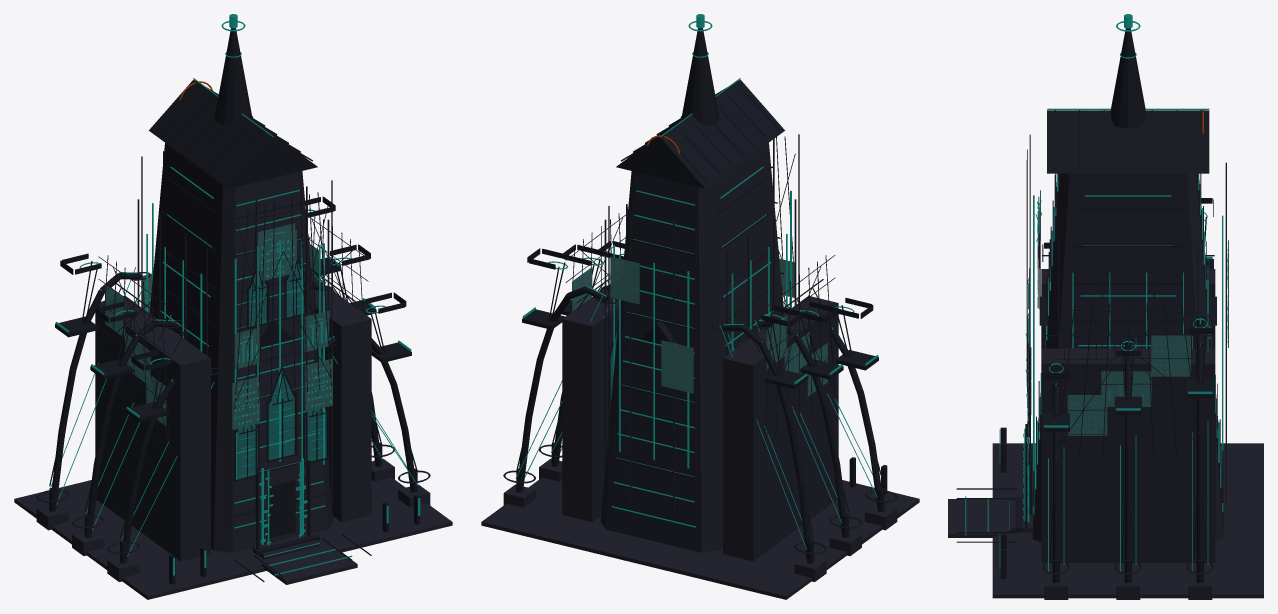
Rendered from analytics-ext-draft-s42.glb.
The picture shows the model from 3 angles, left to right: view 1: azimuth 30°, elevation 25°; view 2: azimuth 150°, elevation 25°; view 3: azimuth 270°, elevation 25°; orthographic projection.
Visible parts, largest first — view 1: analytics_ext_base_packed, analytics_ext_detail_packed, analytics_ext_emissive_packed, analytics_ext_glass_packed, analytics_ext_holo_packed; view 2: analytics_ext_base_packed, analytics_ext_detail_packed, analytics_ext_emissive_packed, analytics_ext_glass_packed; view 3: analytics_ext_base_packed, analytics_ext_detail_packed, analytics_ext_emissive_packed, analytics_ext_glass_packed.
Boxes of the visible parts, x1,y1,x2,y2 form: analytics_ext_base_packed: (14,143,452,599); analytics_ext_detail_packed: (36,28,430,584); analytics_ext_emissive_packed: (48,14,420,575); analytics_ext_glass_packed: (105,223,332,429); analytics_ext_holo_packed: (236,262,326,479); analytics_ext_base_packed: (481,134,919,599); analytics_ext_detail_packed: (503,28,897,563); analytics_ext_emissive_packed: (515,14,884,550); analytics_ext_glass_packed: (572,256,827,396); analytics_ext_base_packed: (948,134,1263,599); analytics_ext_detail_packed: (956,28,1223,582); analytics_ext_emissive_packed: (965,14,1227,571); analytics_ext_glass_packed: (1027,190,1228,435).
Size of the model in its own units: 11.26 by 16.71 by 9.43.
